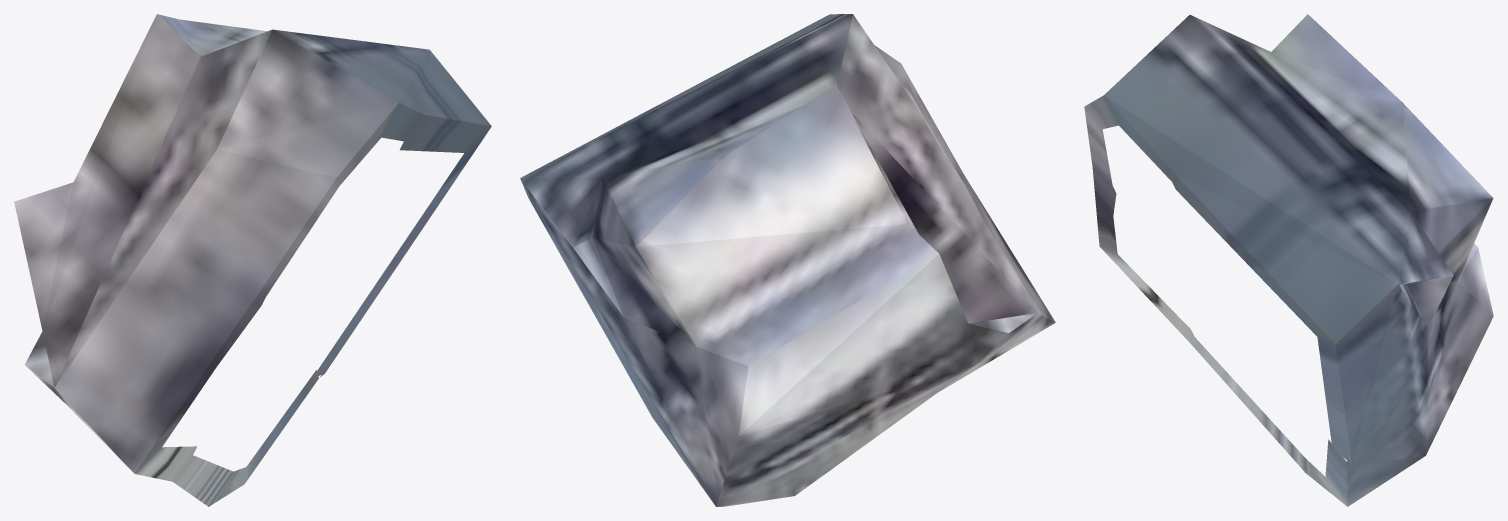
The picture shows the model from 3 angles, left to right: view 1: azimuth 30°, elevation 25°; view 2: azimuth 150°, elevation 25°; view 3: azimuth 270°, elevation 25°; orthographic projection. The views are drawn at different scales.
Bounding box in the file's own units: 7.74 × 7.59 × 6.05.
Materials: 1 (1 with a texture image).
